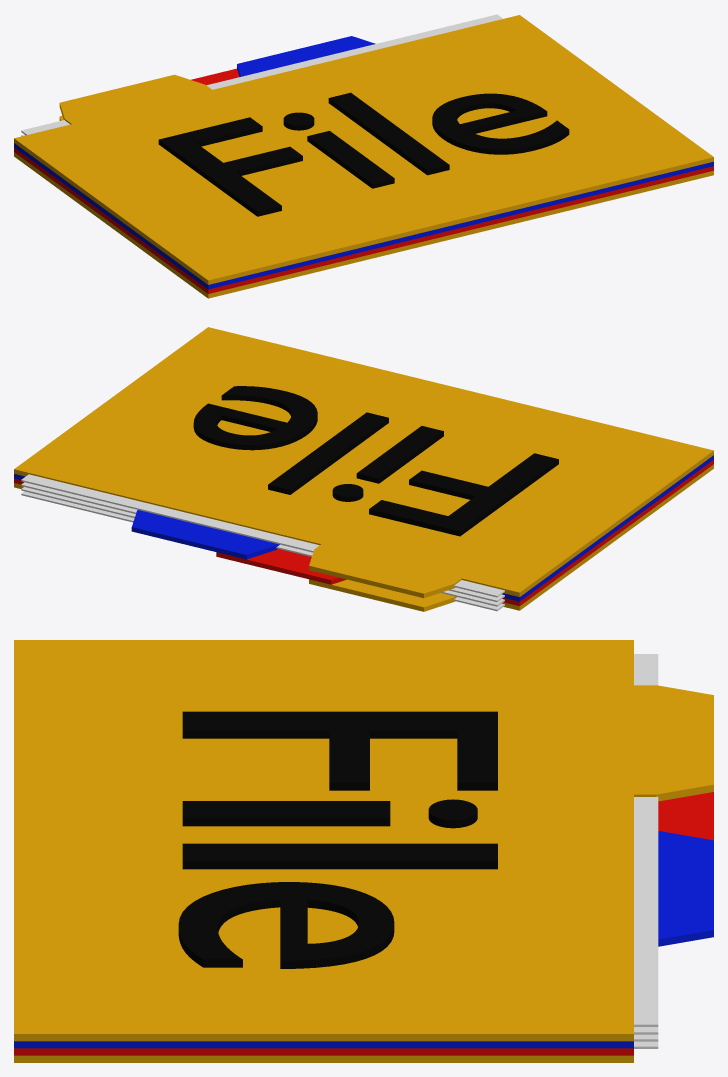
3 renders of one model, top to bottom at view 1: azimuth 30°, elevation 25°; view 2: azimuth 150°, elevation 25°; view 3: azimuth 270°, elevation 25°, orthographic. The views are drawn at different scales.
Visible parts, largest first — view 1: Plane.006; view 2: Plane.006; view 3: Plane.006.
Part boxes in pixels (x1,y1,x2,y2): Plane.006: (14,14,713,298); Plane.006: (14,327,713,611); Plane.006: (14,640,713,1062).
Size of the model in its own units: 49.47 by 2.17 by 37.15.
